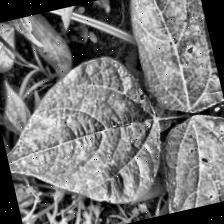ALS: (0, 46, 177, 224), (119, 0, 224, 125), (136, 110, 224, 217), (0, 21, 19, 80)
